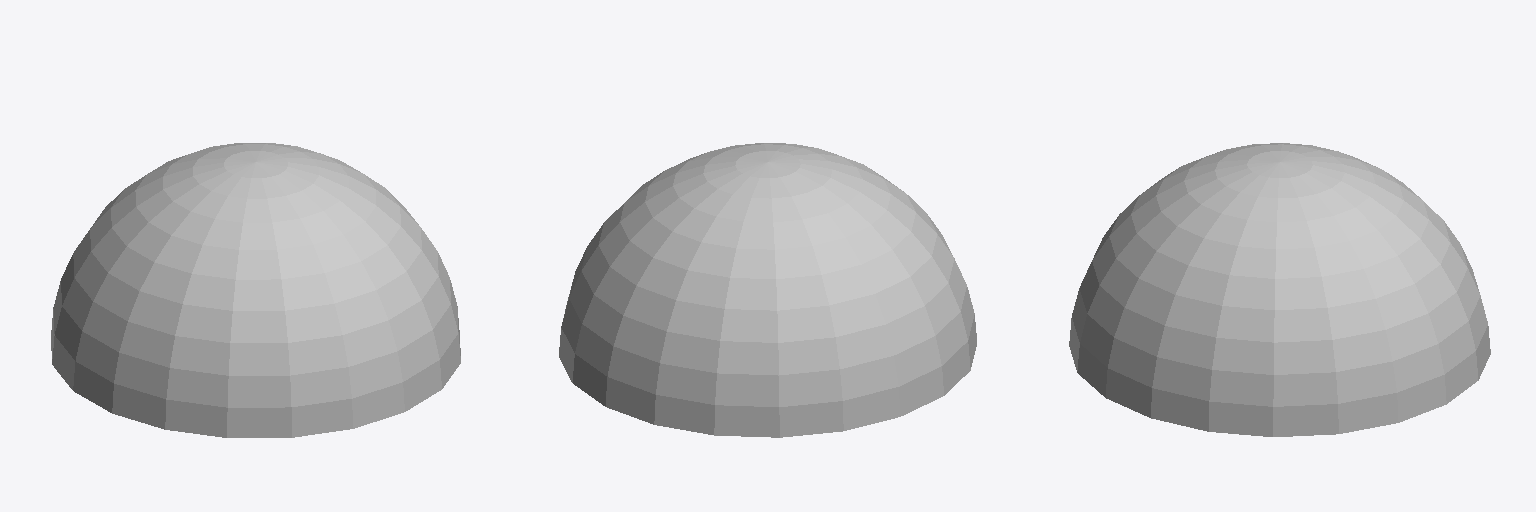
The model's file is Pokeball_arriba.obj.
3 views of the same model, side by side, from view 1: azimuth 30°, elevation 25°; view 2: azimuth 150°, elevation 25°; view 3: azimuth 270°, elevation 25° (orthographic).
Visible parts, largest first — view 1: polySurface2 pSphere2; view 2: polySurface2 pSphere2; view 3: polySurface2 pSphere2.
Boxes of the visible parts, box(x1,y1,x2,y2) form: polySurface2 pSphere2: box(51, 143, 460, 437); polySurface2 pSphere2: box(559, 143, 976, 437); polySurface2 pSphere2: box(1069, 143, 1490, 436).
Bounding box in the file's own units: 2 × 1 × 2.04.